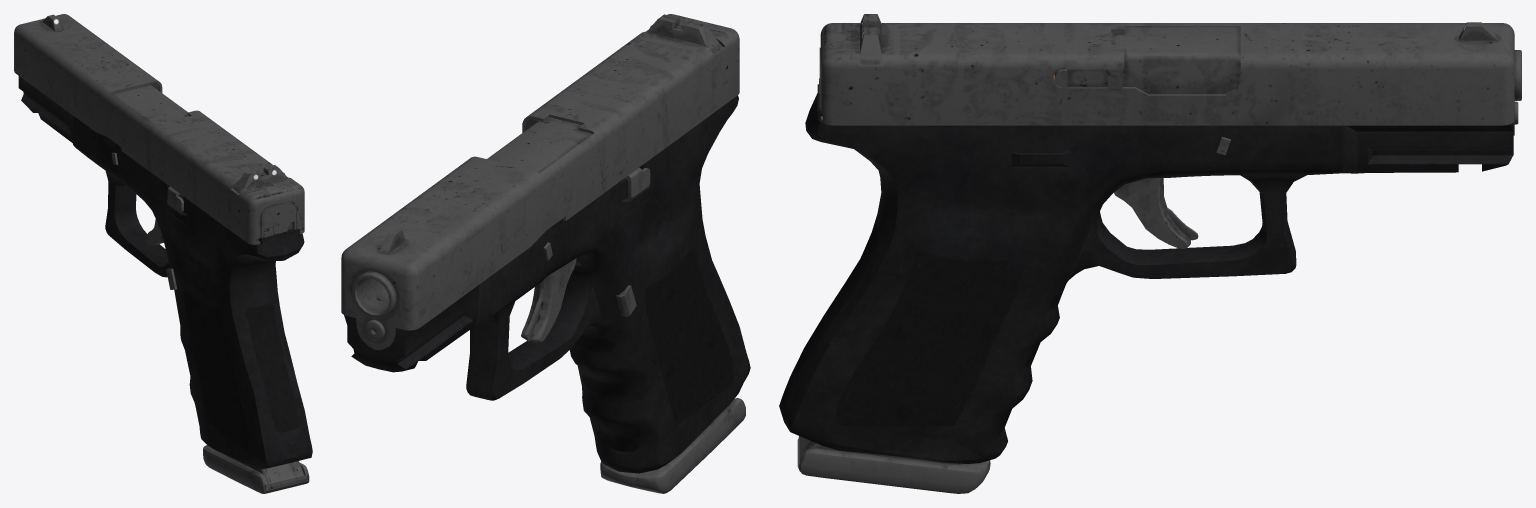
File: gun-g19.glb
3 renders of one model, left to right at view 1: azimuth 30°, elevation 25°; view 2: azimuth 150°, elevation 25°; view 3: azimuth 270°, elevation 25°, orthographic. The views are drawn at different scales.
Parts seen in each view (by area): view 1: frame, slide, mag, barrel; view 2: frame, slide, barrel, mag, trigger; view 3: frame, slide, barrel, mag, trigger.
Part boxes in pixels (left/top/right/bottom): frame: left=18, top=75, right=312, bottom=469; slide: left=14, top=14, right=304, bottom=244; mag: left=203, top=445, right=309, bottom=493; barrel: left=111, top=84, right=189, bottom=122; frame: left=344, top=95, right=750, bottom=473; slide: left=341, top=14, right=739, bottom=349; barrel: left=351, top=117, right=592, bottom=340; mag: left=600, top=398, right=745, bottom=493; trigger: left=521, top=258, right=576, bottom=342; frame: left=779, top=84, right=1513, bottom=463; slide: left=819, top=14, right=1514, bottom=135; barrel: left=1111, top=26, right=1521, bottom=124; mag: left=797, top=82, right=1057, bottom=493; trigger: left=1114, top=178, right=1198, bottom=248.
Bounding box in the file's own units: 0.0241 × 0.1247 × 0.1846.
Materials: 1 (1 with a texture image).
